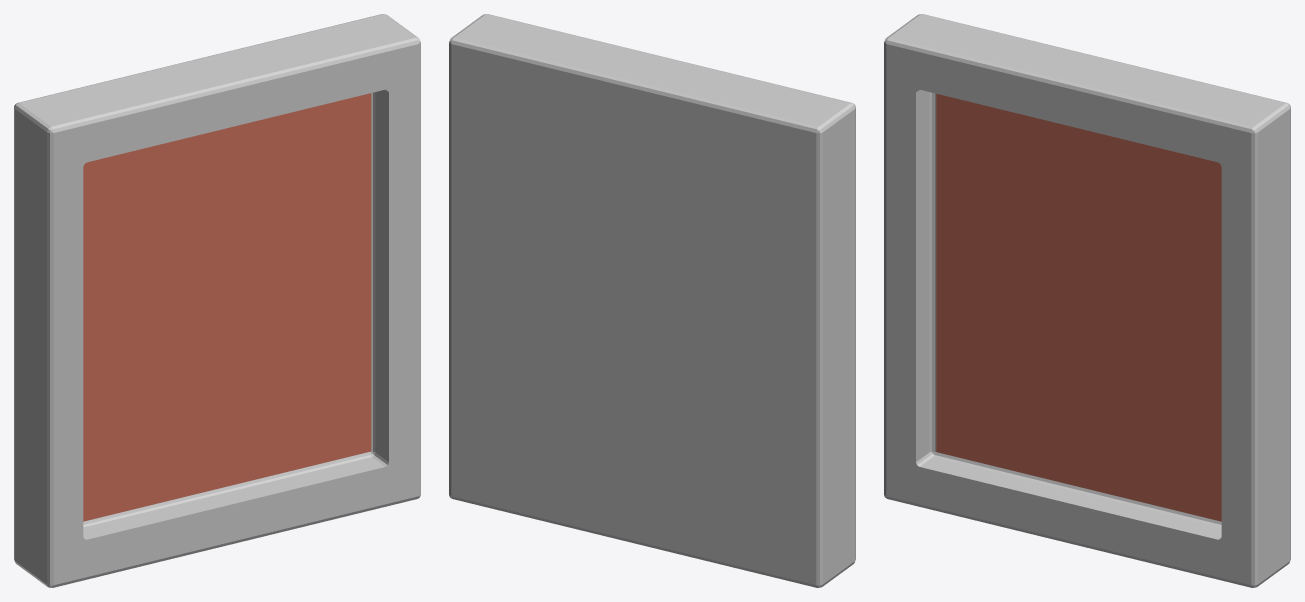
Rendered from FrameB.fbx.
The picture shows the model from 3 angles, left to right: view 1: azimuth 30°, elevation 25°; view 2: azimuth 150°, elevation 25°; view 3: azimuth 330°, elevation 25°; orthographic projection.
Visible parts, largest first — view 1: Plane001; view 2: Plane001; view 3: Plane001.
Part boxes in pixels (left/top/right/bottom): Plane001: left=14, top=14, right=420, bottom=587; Plane001: left=449, top=14, right=855, bottom=587; Plane001: left=884, top=14, right=1290, bottom=587.
Bounding box in the file's own units: 2.19 × 2.58 × 0.3789.
